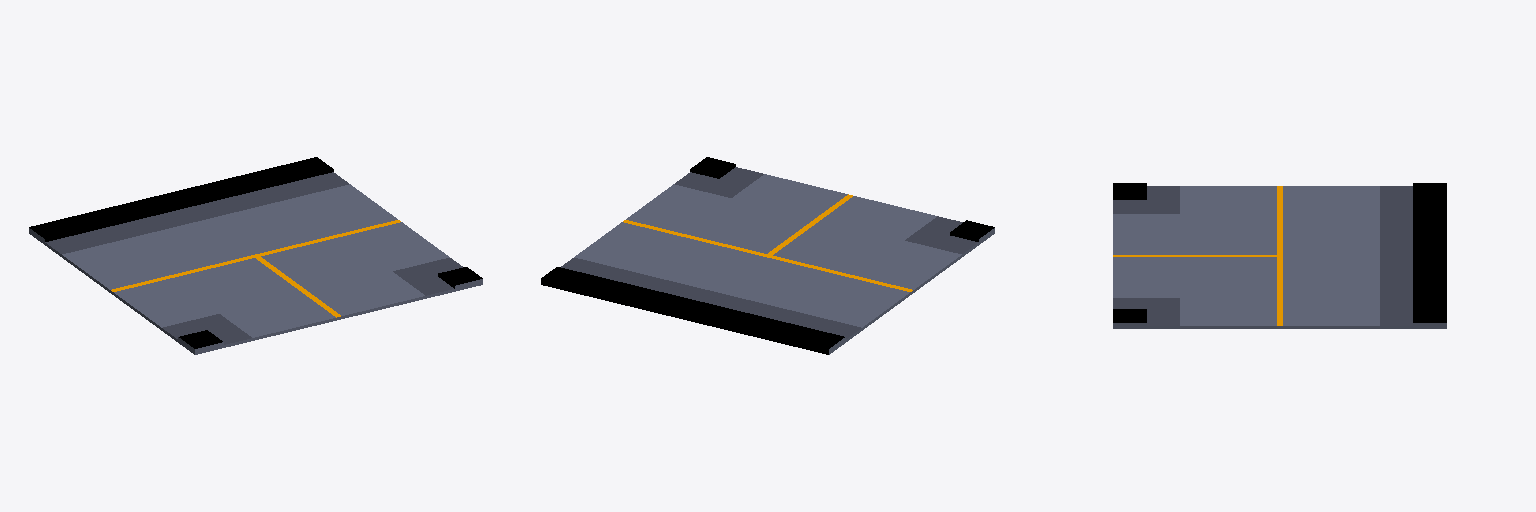
Rendered from city_highway_junction.obj.
The picture shows the model from 3 angles: view 1: azimuth 30°, elevation 25°; view 2: azimuth 150°, elevation 25°; view 3: azimuth 270°, elevation 25°; orthographic projection.
Parts seen in each view (by area): view 1: mergedBlocks; view 2: mergedBlocks; view 3: mergedBlocks.
Boxes of the visible parts, x1=… form: mergedBlocks: x1=29, y1=157, x2=482, y2=354; mergedBlocks: x1=541, y1=157, x2=994, y2=354; mergedBlocks: x1=1113, y1=183, x2=1446, y2=328.
Bounding box in the file's own units: 1 × 0.02 × 1.